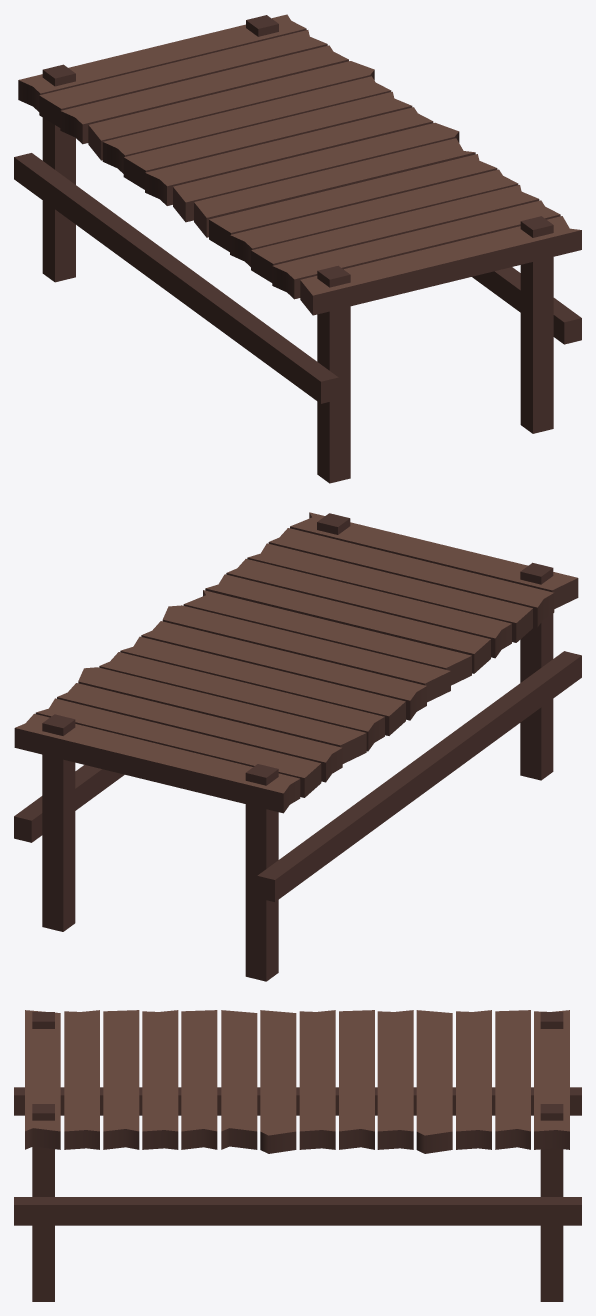
Rendered from bridge.fbx.
The picture shows the model from 3 angles, top to bottom: view 1: azimuth 30°, elevation 25°; view 2: azimuth 150°, elevation 25°; view 3: azimuth 270°, elevation 25°; orthographic projection. The views are drawn at different scales.
Parts seen in each view (by area): view 1: bridge; view 2: bridge; view 3: bridge.
Boxes of the visible parts, <box> form: bridge: <box>14,14,581,483</box>; bridge: <box>14,512,581,981</box>; bridge: <box>14,1010,581,1301</box>.
Bounding box in the file's own units: 784 × 549 × 1499.
1 material, 1 textured.
